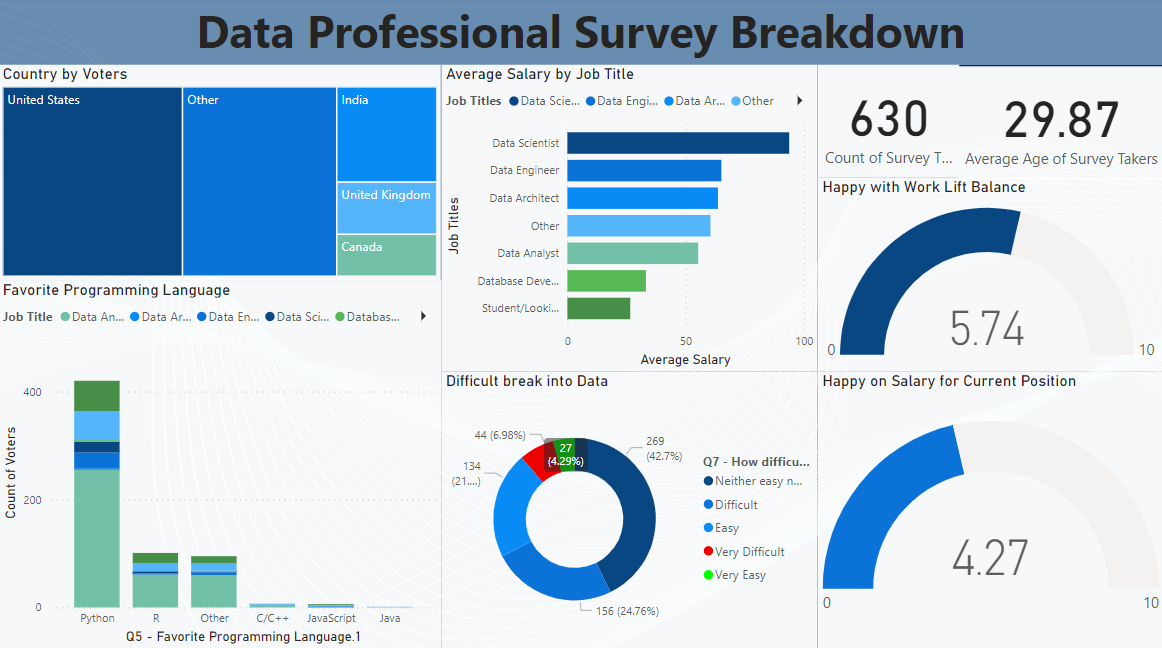

Layout of this report page (visuals, bound fields, positions):
{"tool":"powerbi","page":{"name":"Page 1","canvas":[1280,720],"ordinal":0},"visuals":[{"type":"textbox","box":[0,0,1256.7,75.2],"z":0},{"type":"card","fields":{"Values":["Count(Data Professional Survey.Unique ID)"]},"box":[884,75.2,152.1,122],"z":1000},{"type":"card","fields":{"Values":["Avg(Data Professional Survey.Q10 - Current Age)"]},"box":[1036.1,76.9,220.6,122],"z":2000},{"type":"barChart","title":"Average Salary by Job Title","fields":{"Series":["Data Professional Survey.Q1 - Which Title Best Fits your Current Role?.1"],"Category":["Data Professional Survey.Q1 - Which Title Best Fits your Current Role?.1"],"Y":["Avg(Data Professional Survey.Avg Salary)"]},"box":[477.7,75,405.8,330.7],"z":3000},{"type":"columnChart","title":"Favorite Programming Language","fields":{"Category":["Data Professional Survey.Q5 - Favorite Programming Language.1"],"Y":["CountNonNull(Data Professional Survey.Unique ID)"],"Series":["Data Professional Survey.Q1 - Which Title Best Fits your Current Role?.1"]},"box":[0,307.5,477.9,397.7],"z":4000},{"type":"treemap","title":"Country by Voters","fields":{"Values":["CountNonNull(Data Professional Survey.Q11 - Which Country do you live in?.1)"],"Group":["Data Professional Survey.Q11 - Which Country do you live in?.1"]},"box":[0,75,477.7,232.7],"z":5000},{"type":"gauge","title":"Happy with Work Lift Balance","fields":{"Y":["Avg(Data Professional Survey.Q6 - How Happy are you in your Current Position with the following? (Work/Life Balance))"],"MinValue":["Min(Data Professional Survey.Q6 - How Happy are you in your Current Position with the following? (Work/Life Balance))1"],"MaxValue":["Max(Data Professional Survey.Q6 - How Happy are you in your Current Position with the following? (Work/Life Balance))2"]},"box":[884,197.2,372.7,208.9],"z":6000},{"type":"gauge","title":"Happy on Salary for Current Position","fields":{"Y":["Avg(Data Professional Survey.Q6 - How Happy are you in your Current Position with the following? (Salary))"],"MinValue":["Min(Data Professional Survey.Q6 - How Happy are you in your Current Position with the following? (Salary))"],"MaxValue":["Max(Data Professional Survey.Q6 - How Happy are you in your Current Position with the following? (Salary))"]},"box":[884,406.1,372.7,299.1],"z":7000},{"type":"donutChart","title":"Difficult break into Data","fields":{"Y":["CountNonNull(Data Professional Survey.Q7 - How difficult was it for you to break into Data?)"],"Category":["Data Professional Survey.Q7 - How difficult was it for you to break into Data?"]},"box":[477.9,406.1,406.1,299.1],"z":8000}]}

Visuals, with their boxes in screenshot pixels (x1, y1, x2, y2), scaled from the page's 1280x720 canvas onto the 1162x648 screenshot:
textbox: (0, 0, 1141, 68)
card - Count(Data Professional Survey.Unique ID): (803, 68, 941, 177)
card - Avg(Data Professional Survey.Q10 - Current Age): (941, 69, 1141, 179)
"Average Salary by Job Title" barChart: (434, 68, 802, 365)
"Favorite Programming Language" columnChart: (0, 277, 434, 635)
"Country by Voters" treemap: (0, 68, 434, 277)
"Happy with Work Lift Balance" gauge: (803, 177, 1141, 365)
"Happy on Salary for Current Position" gauge: (803, 365, 1141, 635)
"Difficult break into Data" donutChart: (434, 365, 803, 635)
